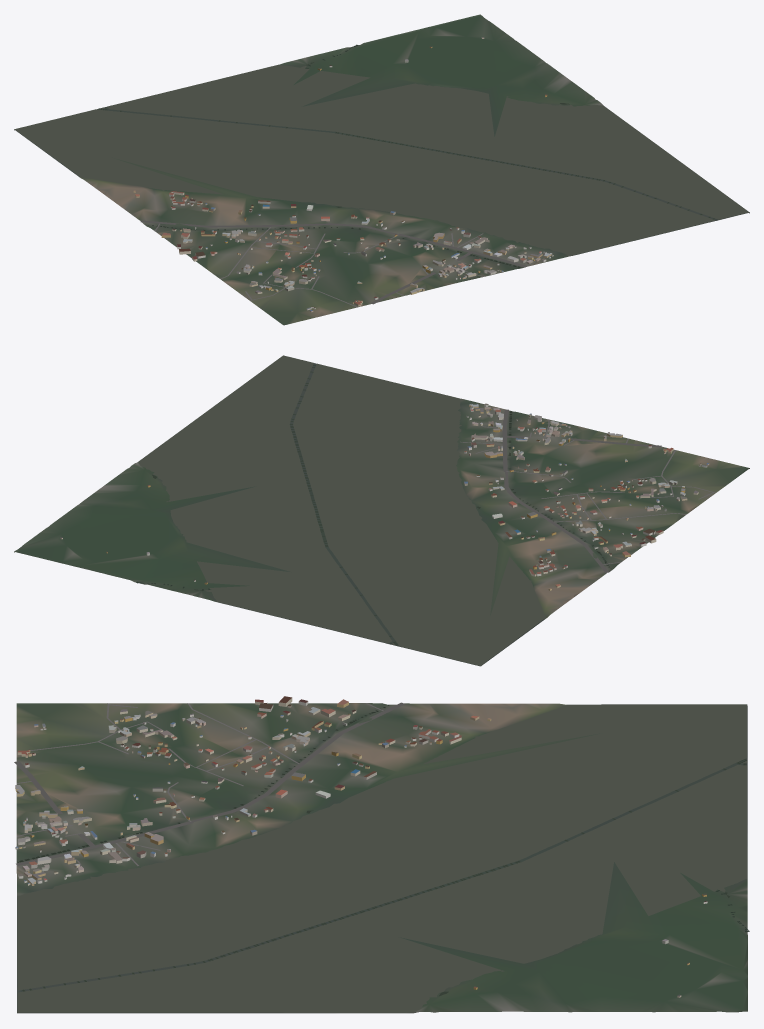
3 views of the same model, one above another, from view 1: azimuth 30°, elevation 25°; view 2: azimuth 150°, elevation 25°; view 3: azimuth 270°, elevation 25° (orthographic). The views are drawn at different scales.
Parts seen in each view (by area): view 1: water, ground, buildings, roads; view 2: water, ground, buildings, roads; view 3: water, ground, buildings, roads.
Boxes of the visible parts, x1,y1,x2,y2 form: water: [15, 44, 748, 267]; ground: [14, 14, 749, 325]; buildings: [133, 37, 553, 312]; roads: [140, 220, 527, 307]; water: [136, 355, 611, 665]; ground: [14, 356, 749, 666]; buildings: [60, 403, 709, 590]; roads: [460, 409, 715, 572]; water: [17, 704, 749, 1012]; ground: [16, 703, 747, 1013]; buildings: [15, 696, 707, 997]; roads: [14, 702, 404, 865].
Bounding box in the file's own units: 1415 × 14.6 × 1410.
